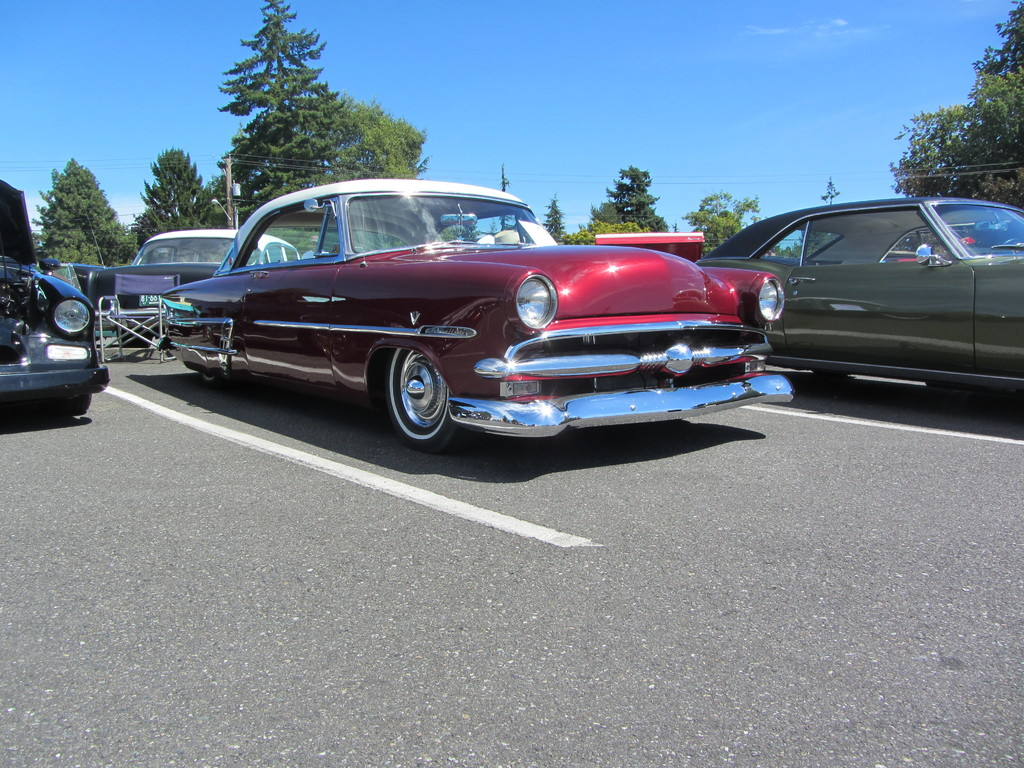Car: (161, 179, 794, 452), (692, 197, 1023, 389), (72, 227, 296, 346), (0, 181, 109, 416)
